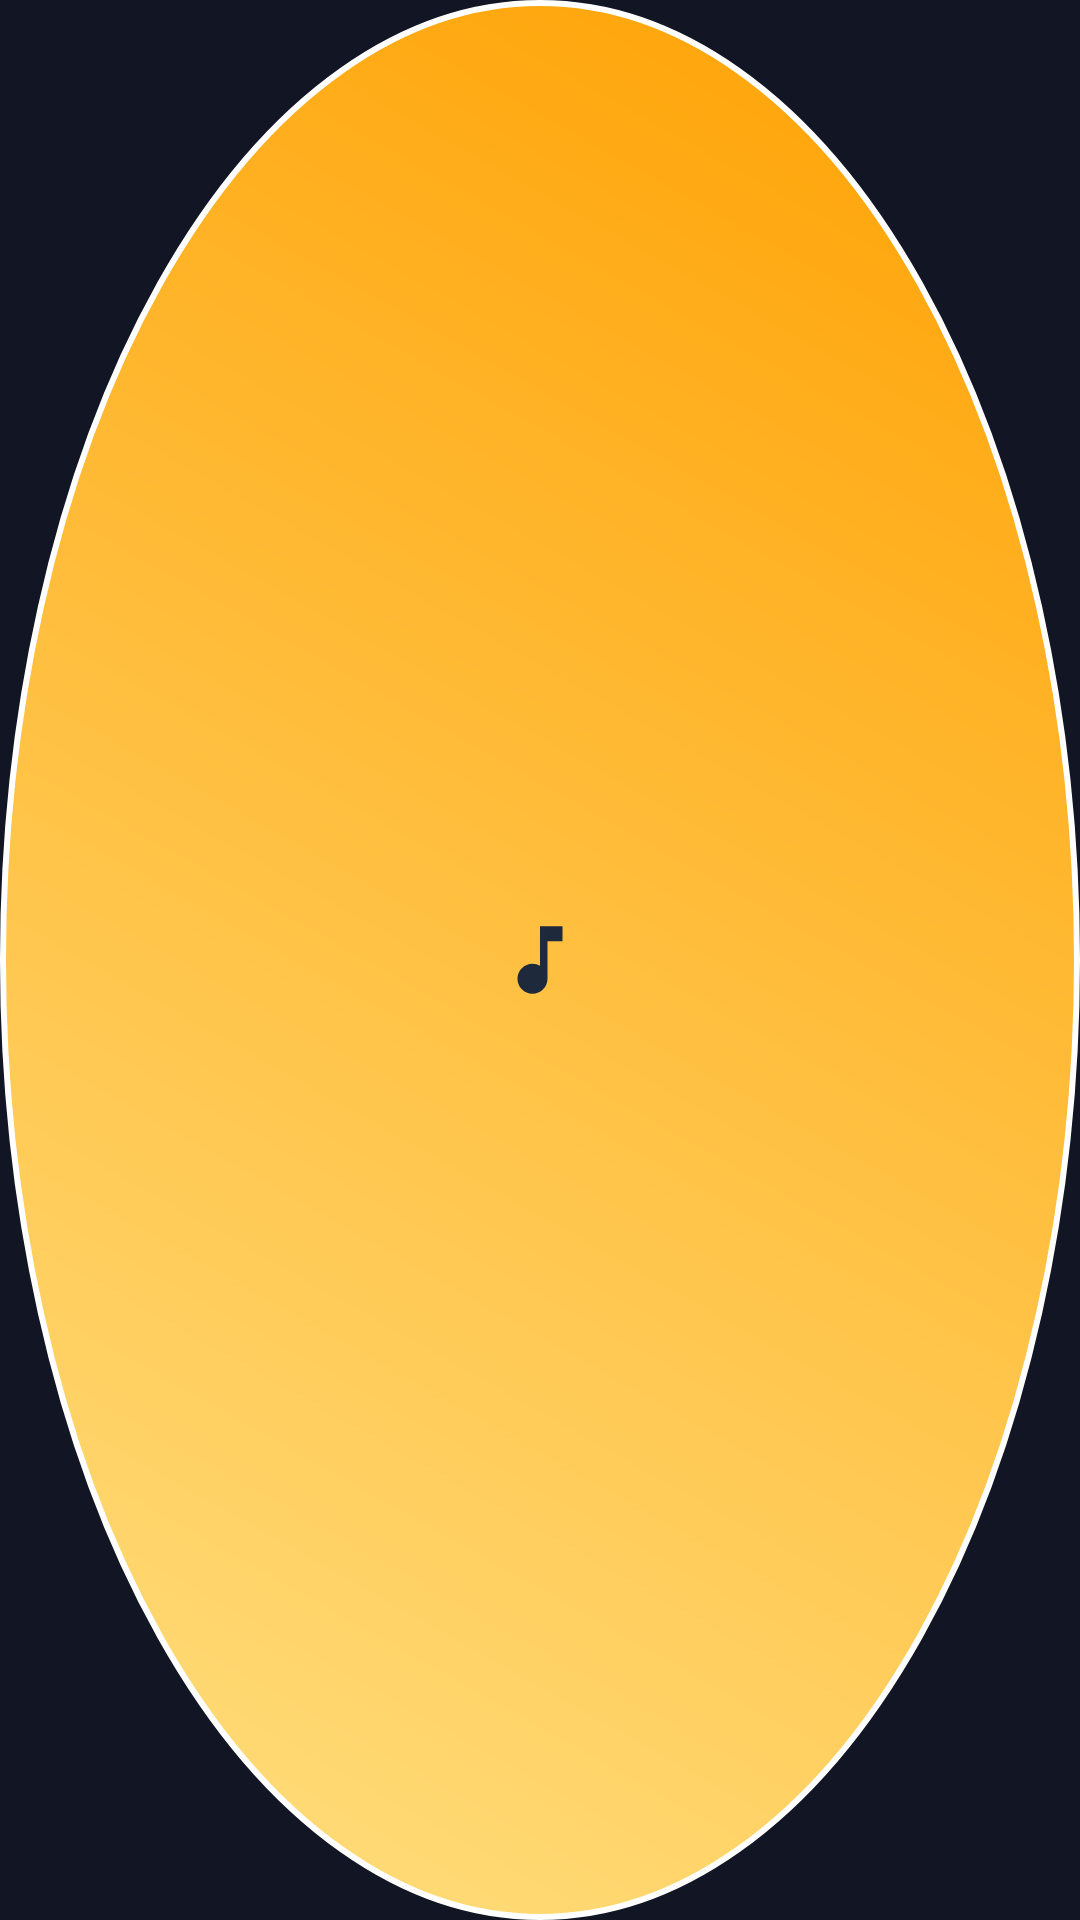

Where icons sit on this 1080px×1920px app screen, as (x1, y1, x2, y2):
floating note: (517, 926, 563, 994)
